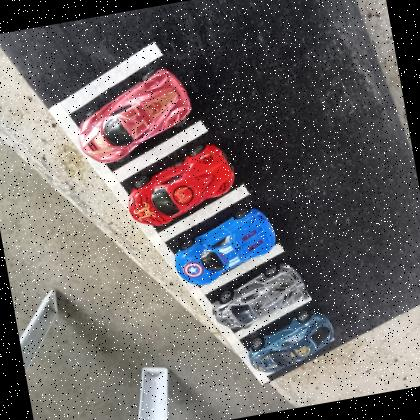Car: (69, 64, 199, 168), (120, 140, 242, 231), (168, 205, 282, 290), (206, 260, 312, 334), (242, 307, 339, 377)
